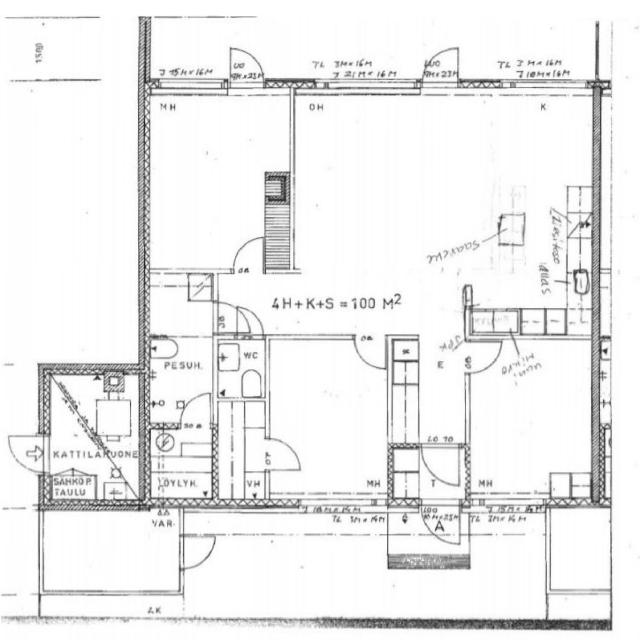door: (420, 442, 464, 490), (420, 44, 462, 88), (226, 45, 267, 89), (263, 434, 306, 474), (229, 234, 268, 277), (7, 434, 48, 473), (465, 337, 505, 376), (177, 390, 215, 430), (180, 534, 218, 570), (232, 303, 267, 339), (353, 336, 387, 372), (628, 540, 640, 562)
window: (312, 78, 420, 99), (148, 76, 228, 100)
zone: (144, 95, 285, 274), (465, 334, 595, 506), (265, 332, 395, 502), (44, 367, 141, 505), (145, 334, 215, 426), (547, 506, 612, 594), (217, 399, 269, 508), (0, 505, 41, 618), (146, 449, 216, 506), (41, 18, 100, 82), (215, 338, 267, 401), (46, 473, 97, 508), (469, 310, 522, 338), (390, 448, 421, 474)
